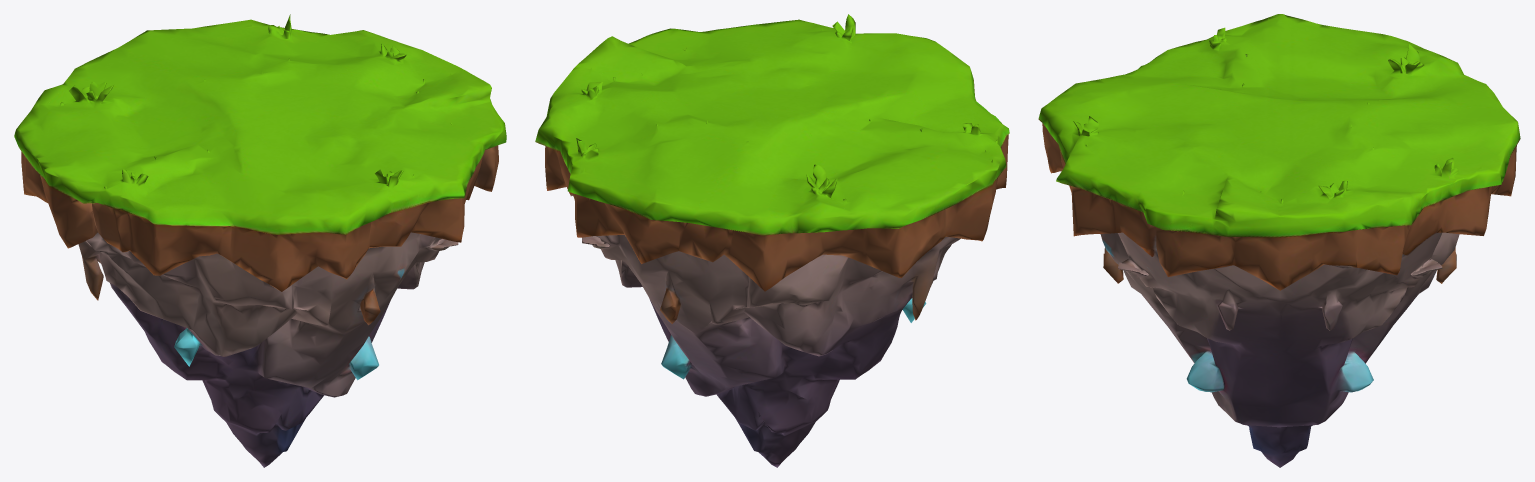
File: island.glb
The picture shows the model from 3 angles, left to right: view 1: azimuth 30°, elevation 25°; view 2: azimuth 150°, elevation 25°; view 3: azimuth 270°, elevation 25°; orthographic projection.
Parts seen in each view (by area): view 1: tripo_node_93235925-acf6-4573-85ac-cdd7bdb2abd1; view 2: tripo_node_93235925-acf6-4573-85ac-cdd7bdb2abd1; view 3: tripo_node_93235925-acf6-4573-85ac-cdd7bdb2abd1.
Part boxes in pixels (x1,y1,x2,y2): tripo_node_93235925-acf6-4573-85ac-cdd7bdb2abd1: (14,14,506,467); tripo_node_93235925-acf6-4573-85ac-cdd7bdb2abd1: (535,14,1009,467); tripo_node_93235925-acf6-4573-85ac-cdd7bdb2abd1: (1038,14,1520,467).
Size of the model in its own units: 1 by 0.8284 by 0.995.
Materials: 1 (1 with a texture image).
